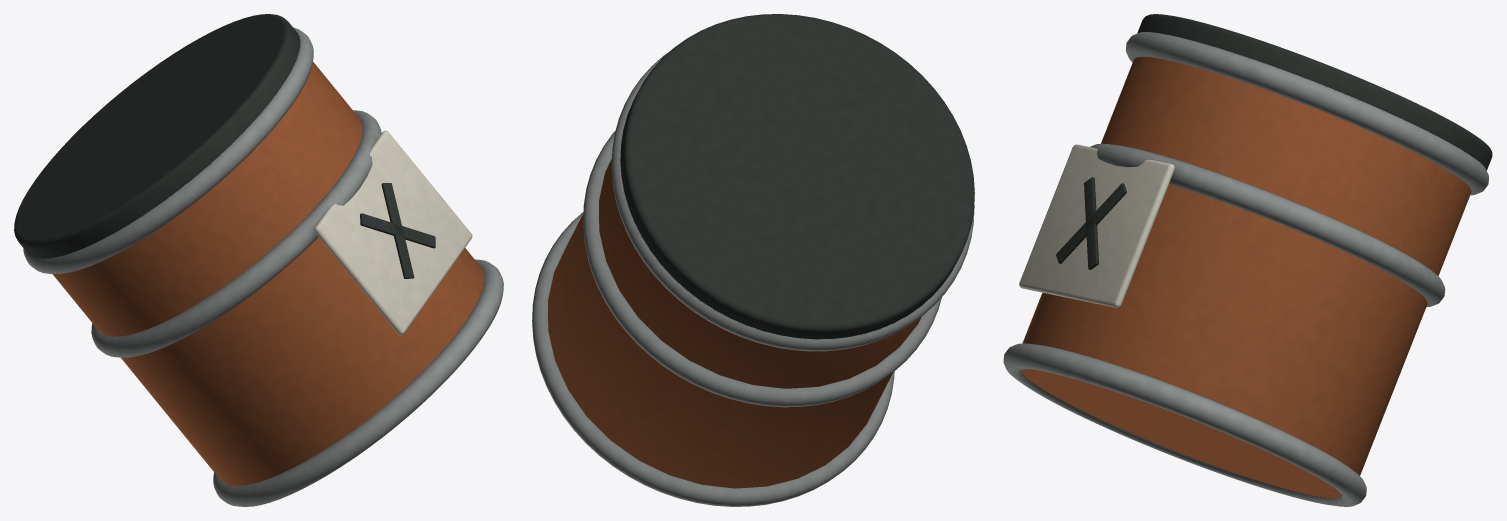
The picture shows the model from 3 angles, left to right: view 1: azimuth 30°, elevation 25°; view 2: azimuth 150°, elevation 25°; view 3: azimuth 270°, elevation 25°; orthographic projection. The views are drawn at different scales.
Visible parts, largest first — view 1: Waste containment drum; view 2: Waste containment drum; view 3: Waste containment drum.
Boxes of the visible parts, x1,y1,x2,y2 form: Waste containment drum: (14, 14, 503, 506); Waste containment drum: (532, 14, 974, 506); Waste containment drum: (1003, 14, 1492, 506).
Bounding box in the file's own units: 1.19 × 1.22 × 1.13.
1 material, 1 textured.
